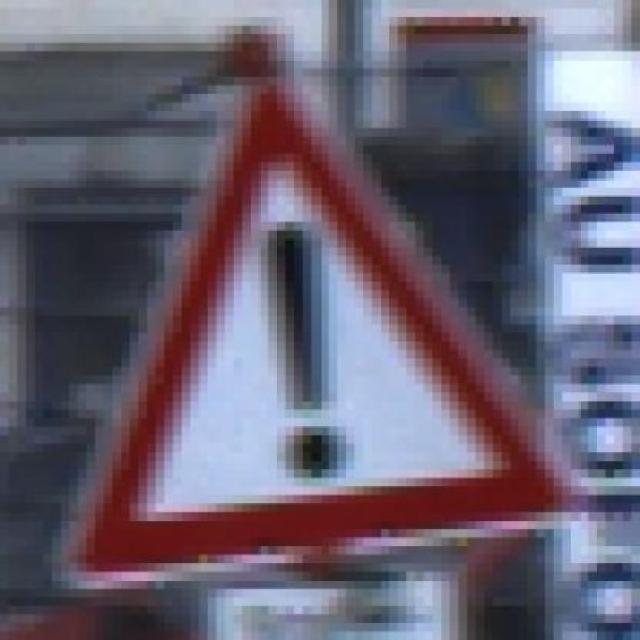Attention Please-: (61, 60, 588, 589)
